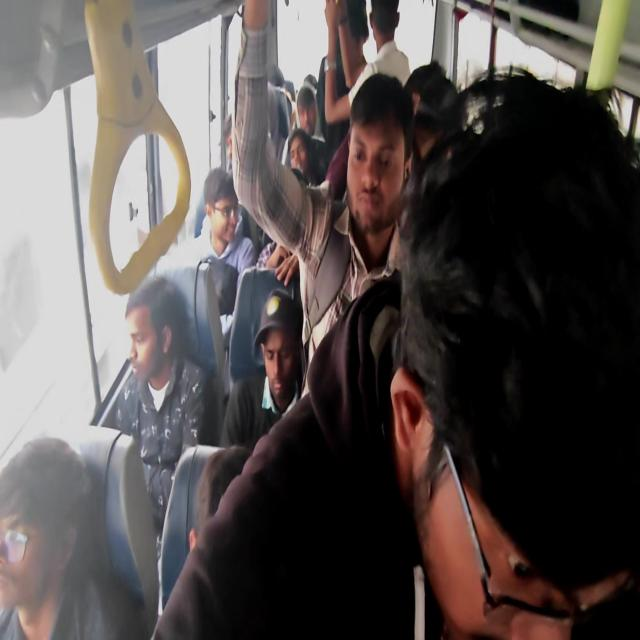person: (410, 161, 640, 640), (5, 418, 110, 626), (350, 82, 434, 277), (177, 466, 290, 598), (243, 288, 330, 425), (107, 286, 174, 384), (218, 118, 273, 182), (356, 16, 405, 80), (200, 160, 238, 237), (285, 140, 320, 183), (332, 15, 355, 47), (264, 64, 286, 96), (300, 81, 316, 124), (307, 60, 327, 94)
